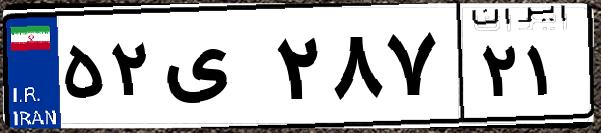1: (525, 38, 570, 115)
2: (270, 28, 330, 110), (475, 38, 525, 113), (110, 28, 158, 98)
5: (57, 26, 110, 100)
7: (385, 28, 445, 110)
8: (330, 28, 385, 110)
ی: (158, 20, 270, 120)
